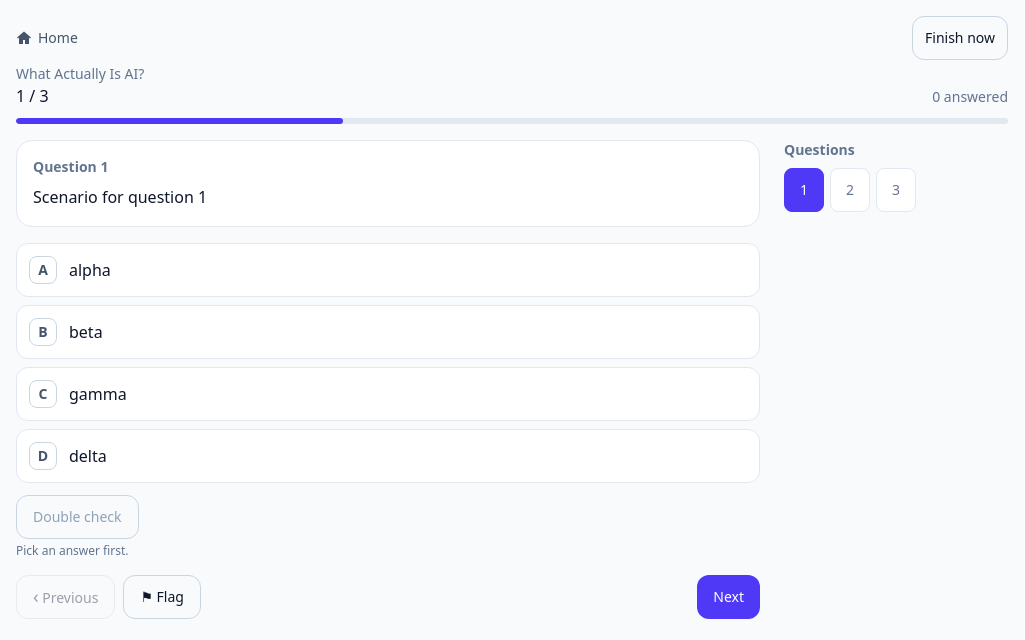
Test: QuizScreen › moves between questions with Previous and Next
Click the button "Next".
click(729, 597)  # box [697,575,760,619]
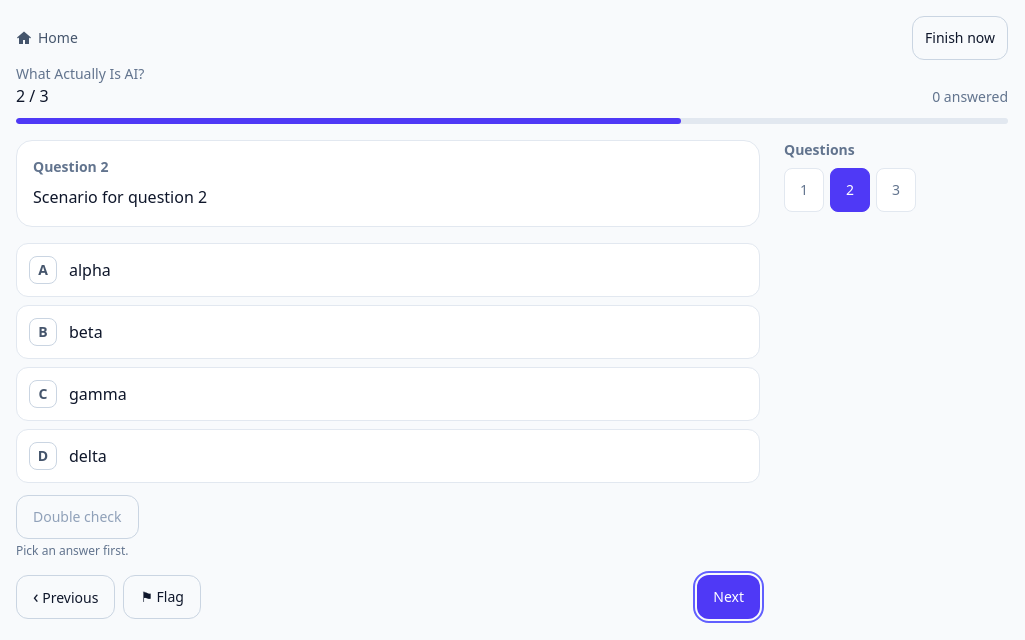
Check: the text "2 / 3" is shown, box [16,84,49,110]
Click the button "‹ Previous".
click(66, 597)  # box [16,575,115,619]
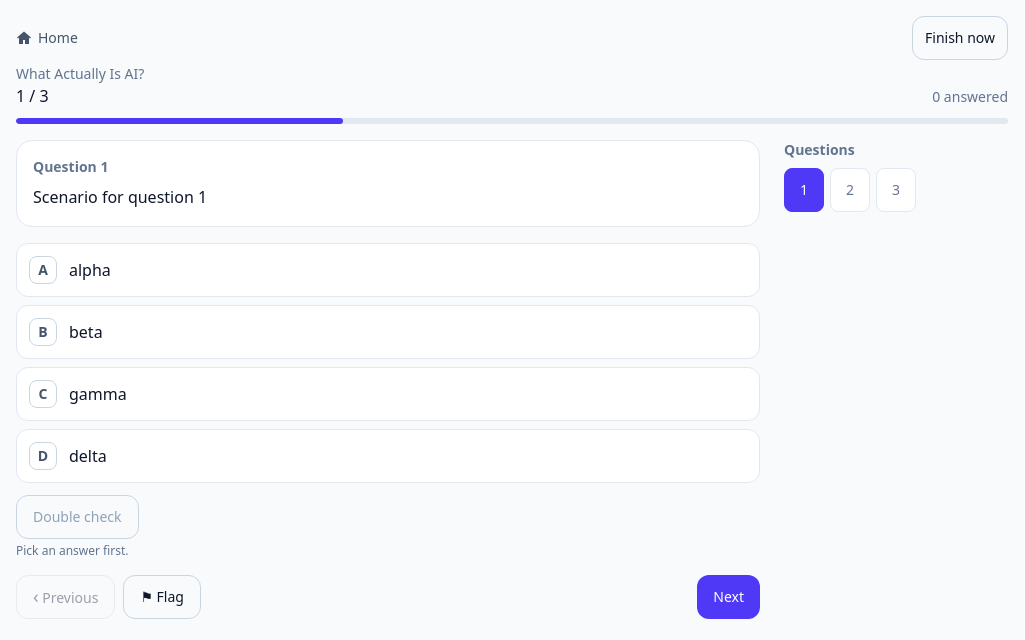
Check: the text "1 / 3" is shown, box [16,84,49,110]
